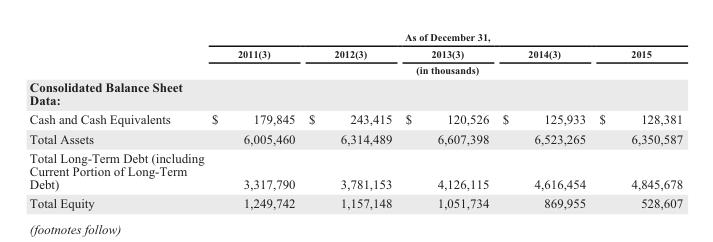table: (28, 29, 682, 211)
table column: (28, 29, 207, 211), (301, 29, 398, 211), (398, 29, 495, 211), (495, 29, 591, 211), (207, 29, 301, 211), (591, 29, 682, 211)
table column header: (28, 29, 682, 77)
table projected row header: (28, 77, 682, 108)
table row: (28, 147, 682, 192), (28, 77, 682, 108), (28, 108, 682, 128), (28, 128, 682, 147), (28, 192, 682, 211), (28, 44, 682, 61), (28, 61, 682, 77), (28, 29, 682, 44)
table spanning cell: (207, 61, 682, 77), (207, 29, 682, 44)
